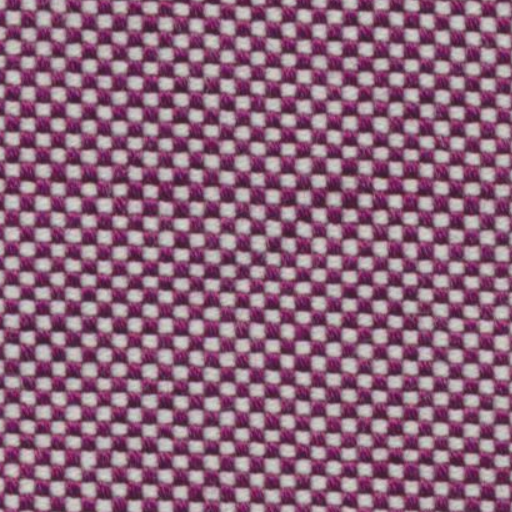TuoSha: (2, 130, 490, 227)
